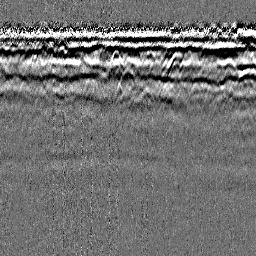cavity: (119, 67, 137, 88)
